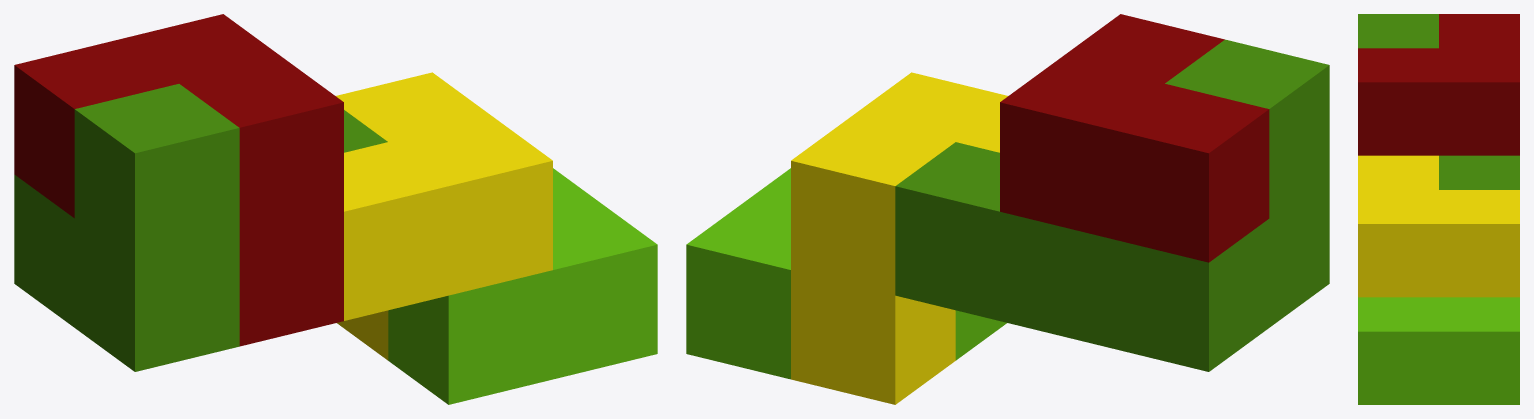
3 views of the same model, side by side, from view 1: azimuth 30°, elevation 25°; view 2: azimuth 150°, elevation 25°; view 3: azimuth 270°, elevation 25° (orthographic). The views are drawn at different scales.
Visible parts, largest first — view 1: mergedBlocks(Clone); view 2: mergedBlocks(Clone); view 3: mergedBlocks(Clone).
Boxes of the visible parts, left/top/right/bottom form: mergedBlocks(Clone): left=14, top=14, right=657, bottom=404; mergedBlocks(Clone): left=686, top=14, right=1329, bottom=404; mergedBlocks(Clone): left=1358, top=14, right=1519, bottom=404.
Size of the model in its own units: 5 by 3 by 2.
Materials: 4 (4 with a texture image).
